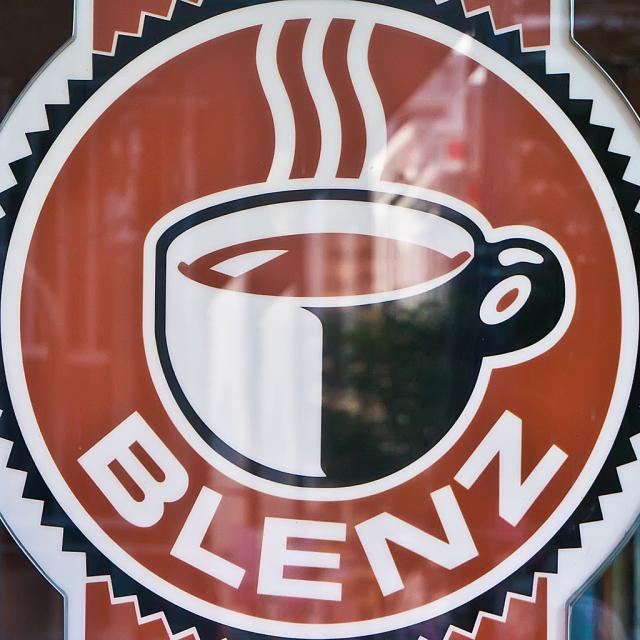Coffee: (147, 180, 576, 505), (178, 228, 466, 291)
